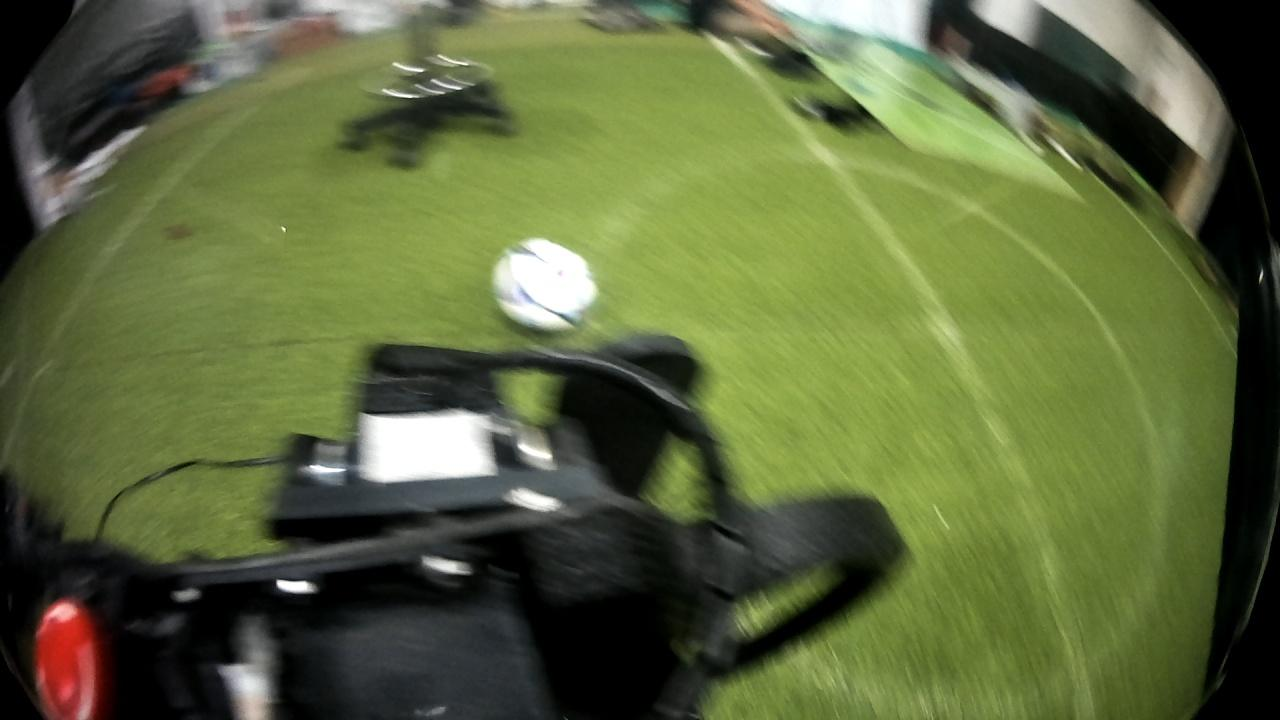ball: (489, 232, 601, 336)
